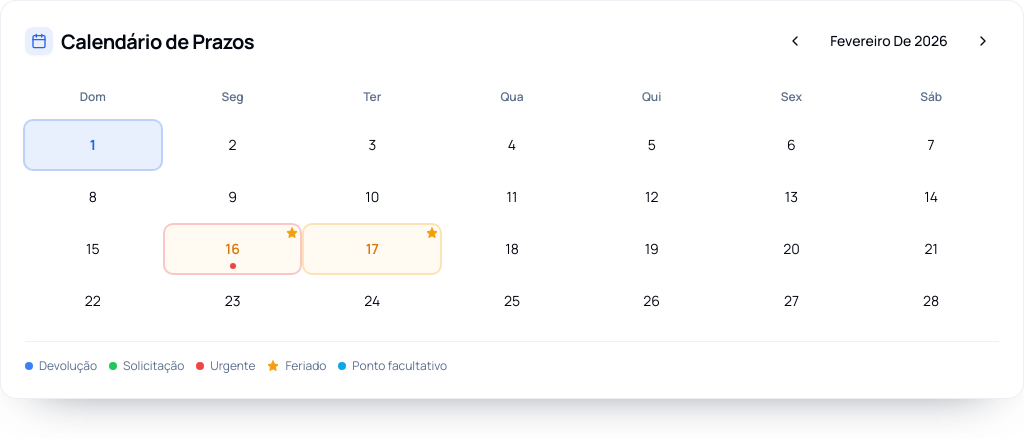
Test: PrazosCalendar › abre detalhes de prazo e feriado por clique e fecha com Escape
Click the button named "16 de fevereiro de 2026". click: [233, 249]
box: [165,225,300,273]
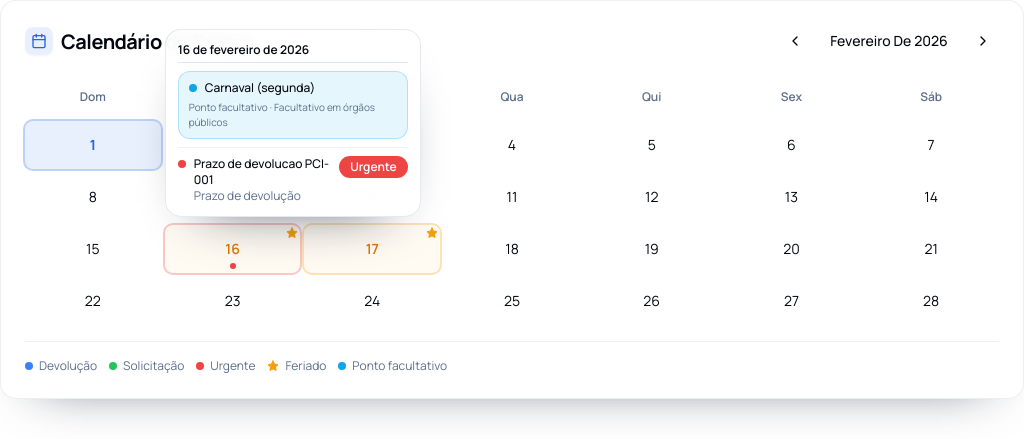
Check: the button named "16 de fevereiro de 2026" is expanded
Check: the text "Carnaval (segunda)" is shown, box [205,79,315,96]
Check: the text "Prazo de devolucao PCI-001" is shown, box [194,156,331,188]
Press Escape in the button named "16 de fevereiro de 2026", box [165,225,300,273]
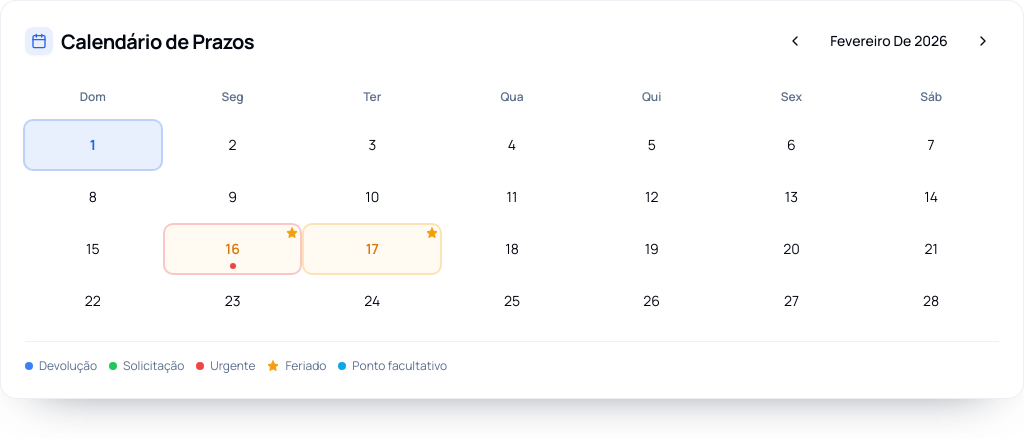
Check: the button named "16 de fevereiro de 2026" is collapsed, box [165,225,300,273]
